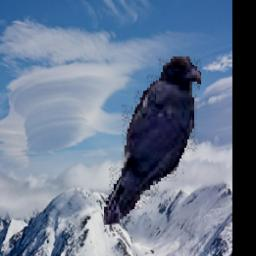Crow: (105, 56, 202, 225)
